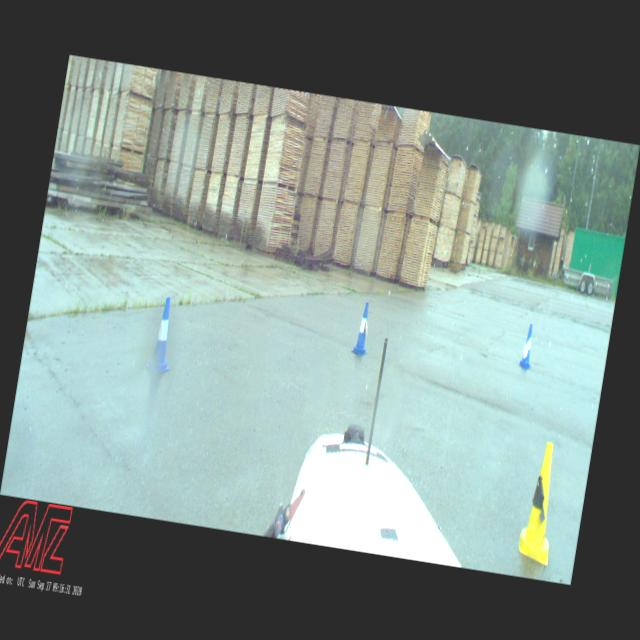blue_cone: (146, 297, 180, 376), (352, 301, 374, 357), (518, 325, 536, 371)
yellow_cone: (514, 441, 566, 572)
